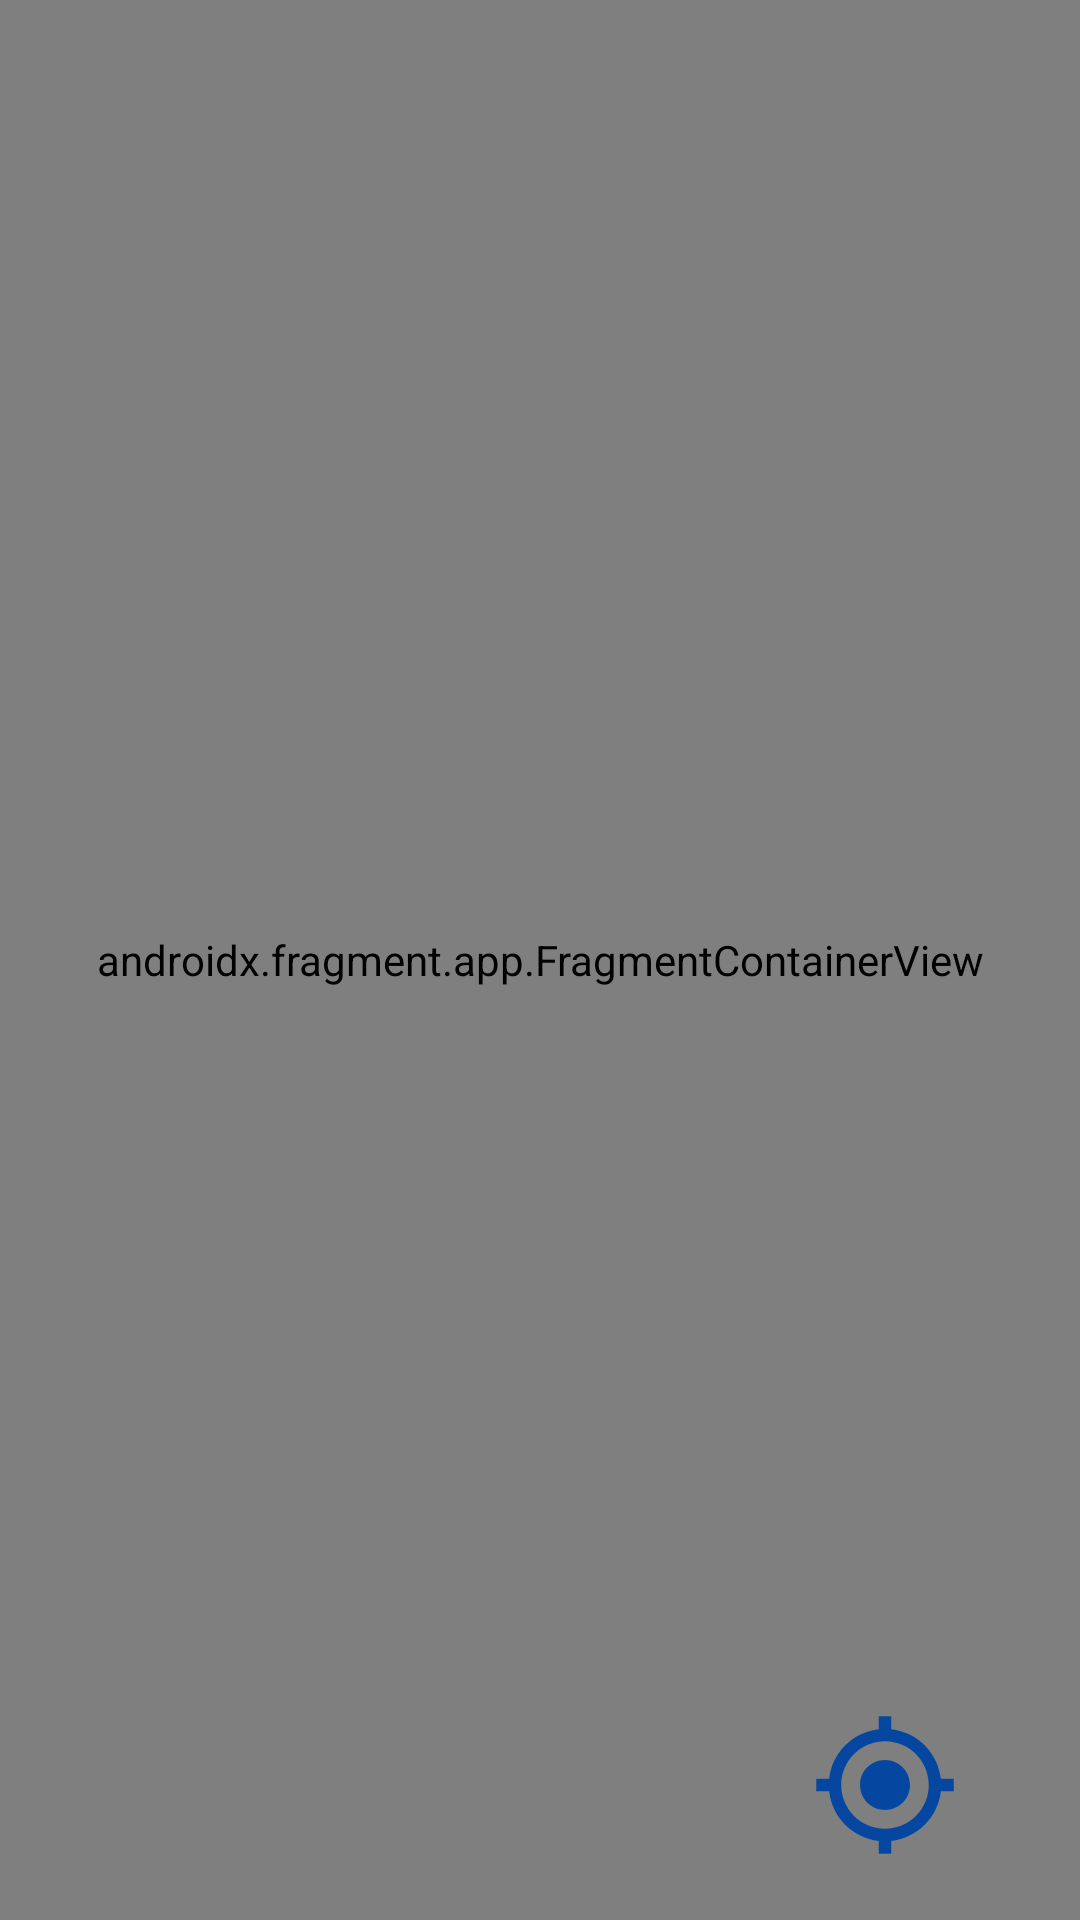

Named icons in this screenshot (1080*1920) and their centers, (x=x, y=y):
gps fixed: (x=885, y=1785)
